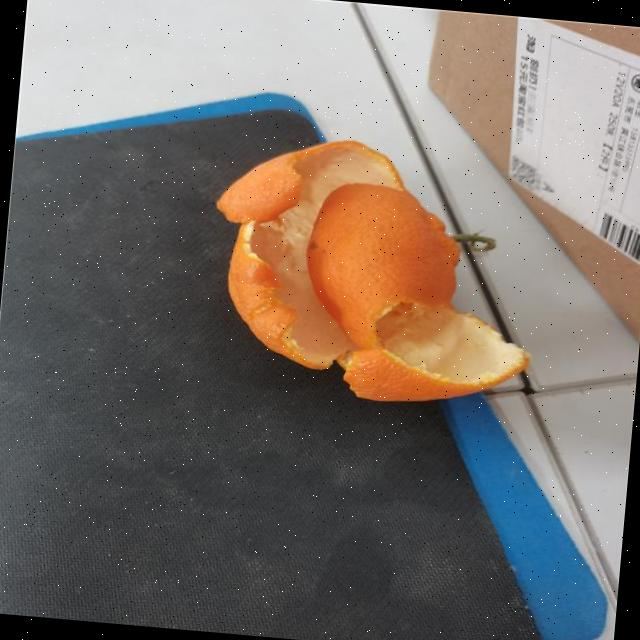orange-peel: (198, 126, 548, 416)
